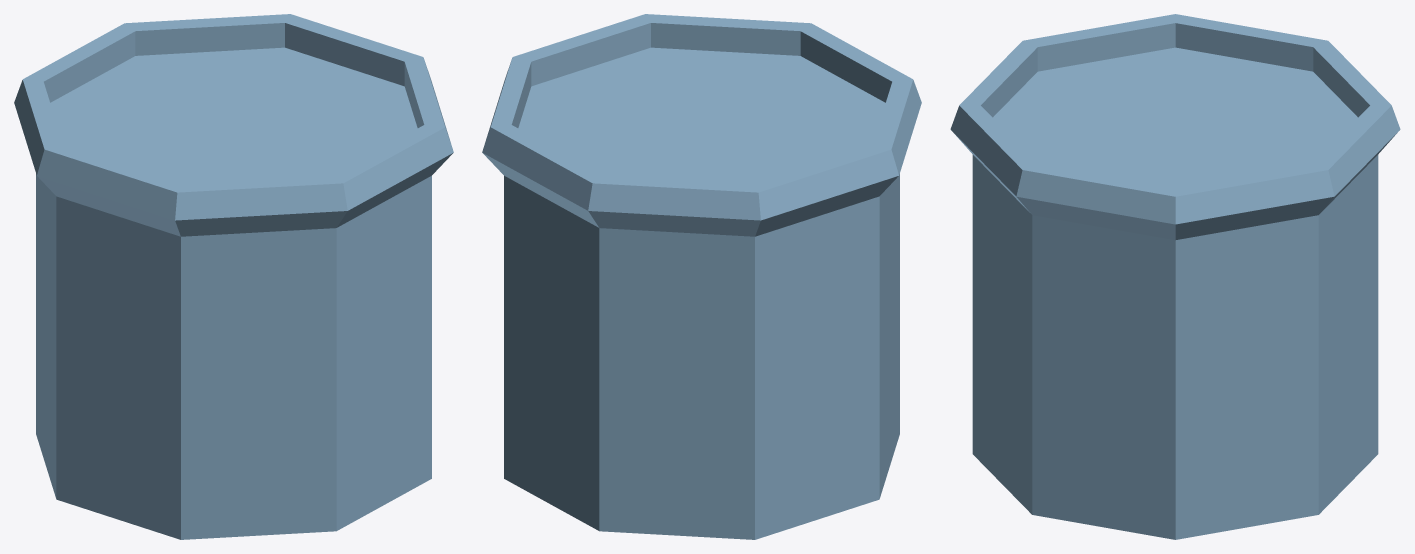
File: LargeTower01.fbx
3 renders of one model, left to right at view 1: azimuth 30°, elevation 25°; view 2: azimuth 150°, elevation 25°; view 3: azimuth 270°, elevation 25°, orthographic.
Parts seen in each view (by area): view 1: Tower; view 2: Tower; view 3: Tower.
Boxes of the visible parts, x1,y1,x2,y2 form: Tower: [14, 14, 453, 539]; Tower: [482, 14, 921, 539]; Tower: [950, 14, 1400, 539].
Bounding box in the file's own units: 11.88 × 10.17 × 11.88.
